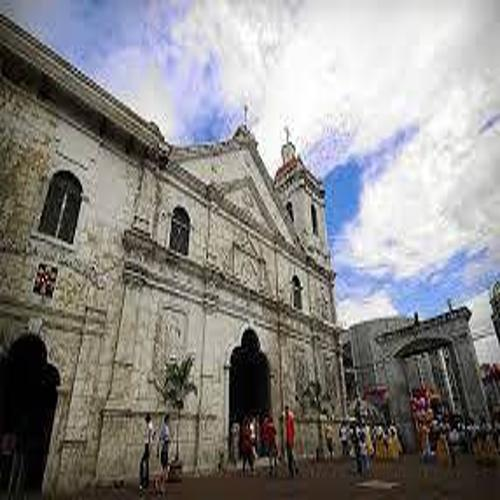Sto. Nino Basilica Church: (144, 91, 355, 472)
